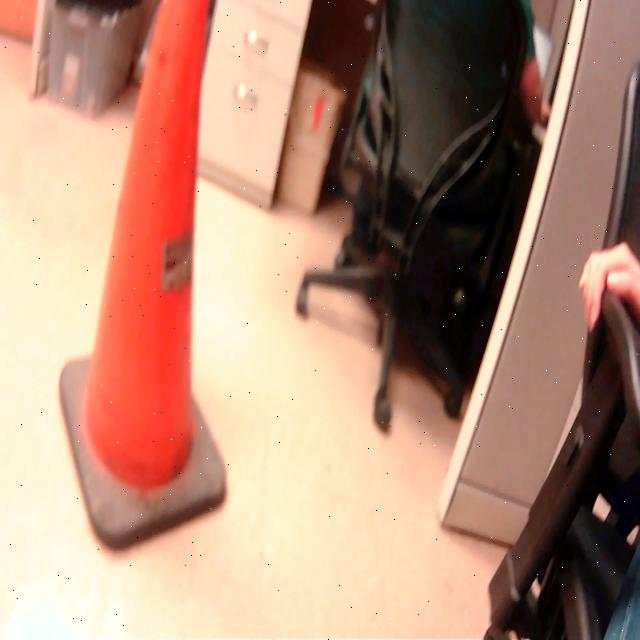traffic cone: (57, 4, 237, 564)
